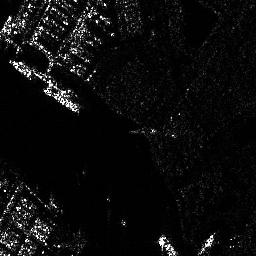ship: (43, 89, 80, 112), (10, 59, 32, 79)
